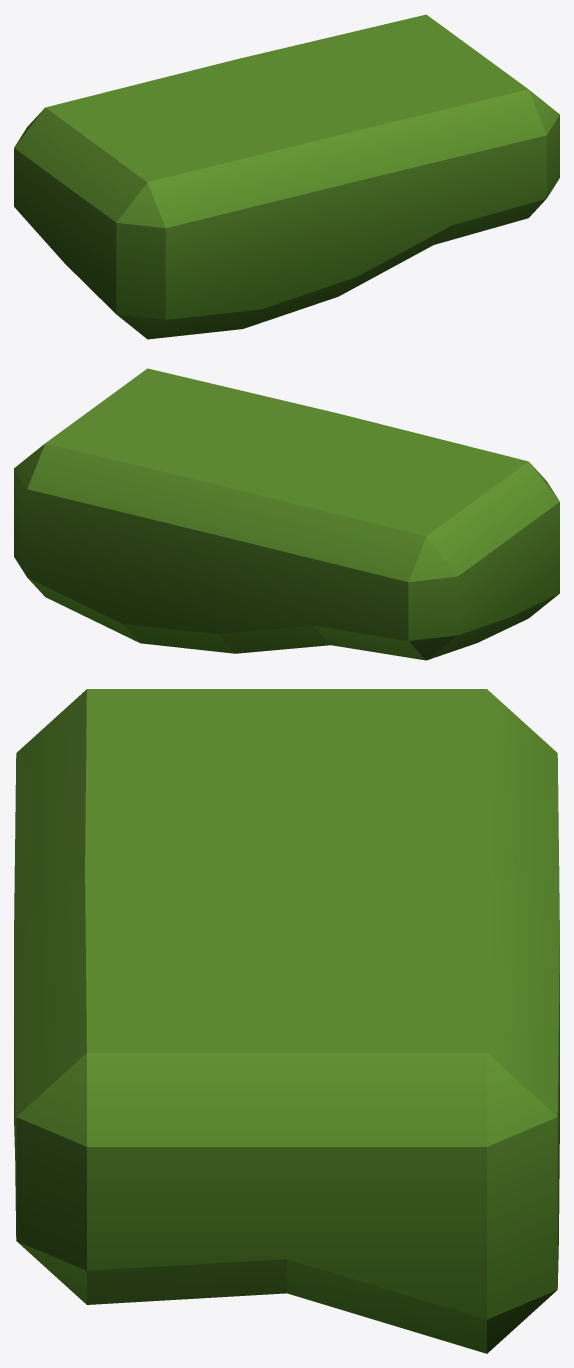
File: m_deco_floorGrass_brick.FBX
3 renders of one model, top to bottom at view 1: azimuth 30°, elevation 25°; view 2: azimuth 150°, elevation 25°; view 3: azimuth 270°, elevation 25°, orthographic. The views are drawn at different scales.
Visible parts, largest first — view 1: m_deco_floorGrass_brick; view 2: m_deco_floorGrass_brick; view 3: m_deco_floorGrass_brick.
Boxes of the visible parts, <box> form: m_deco_floorGrass_brick: <box>14,14,559,339</box>; m_deco_floorGrass_brick: <box>14,368,559,660</box>; m_deco_floorGrass_brick: <box>14,689,559,1353</box>.
Size of the model in its own units: 2.18 by 0.8323 by 1.18.
